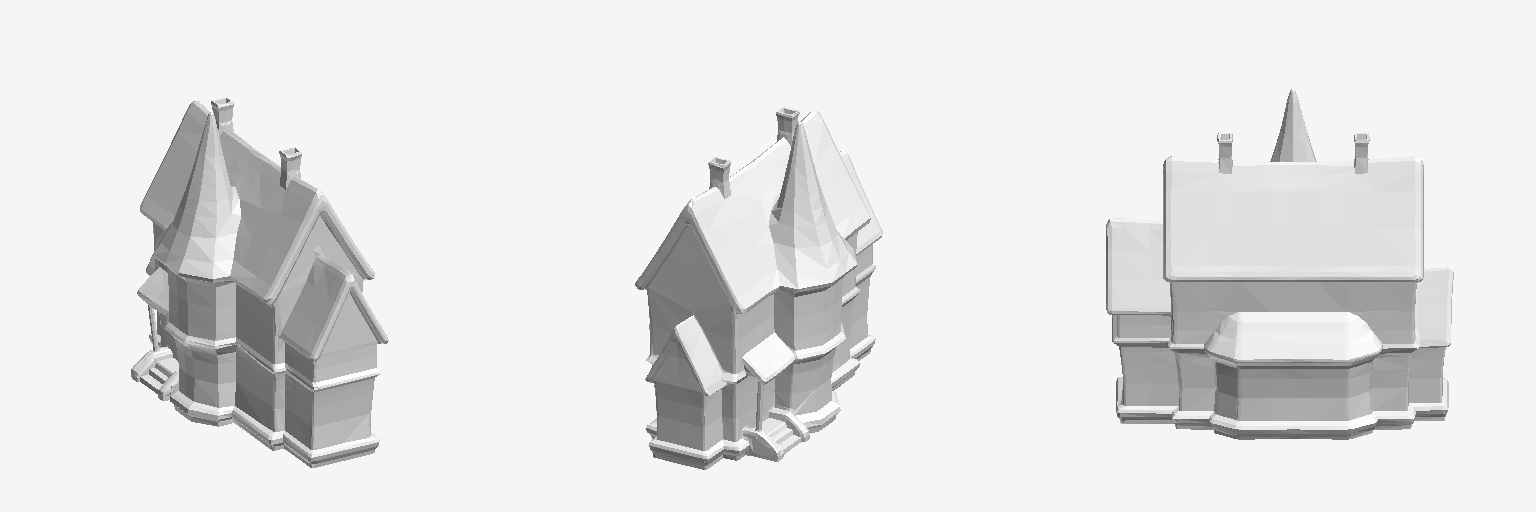
The model's file is House-3.obj.
3 views of the same model, side by side, from view 1: azimuth 30°, elevation 25°; view 2: azimuth 150°, elevation 25°; view 3: azimuth 270°, elevation 25° (orthographic).
Visible parts, largest first — view 1: House_3; view 2: House_3; view 3: House_3.
Boxes of the visible parts, <box> form: House_3: <box>131,97,388,467</box>; House_3: <box>635,107,882,469</box>; House_3: <box>1106,89,1453,439</box>.
Bounding box in the file's own units: 3.35 × 5.68 × 6.